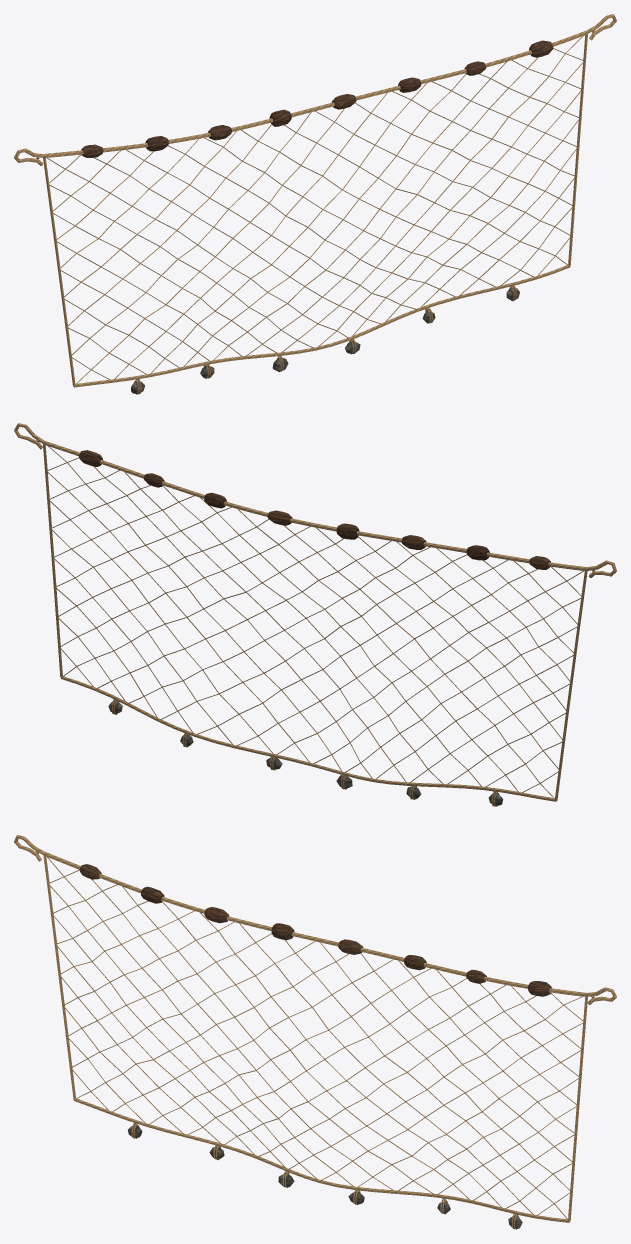
File: Rede-de-Pesca.glb
The picture shows the model from 3 angles, top to bottom: view 1: azimuth 30°, elevation 25°; view 2: azimuth 150°, elevation 25°; view 3: azimuth 330°, elevation 25°; orthographic projection.
Visible parts, largest first — view 1: Malha de pesca, Cordas de contorno, Boias de madeira, Pesos de pedra; view 2: Malha de pesca, Cordas de contorno, Boias de madeira, Pesos de pedra; view 3: Malha de pesca, Cordas de contorno, Boias de madeira, Pesos de pedra.
Boxes of the visible parts, x1,y1,x2,y2 form: Malha de pesca: (47,36,583,383); Cordas de contorno: (14,14,616,394); Boias de madeira: (81,40,553,157); Pesos de pedra: (131,287,519,394); Malha de pesca: (47,446,583,798); Cordas de contorno: (14,423,616,806); Boias de madeira: (79,450,550,569); Pesos de pedra: (108,701,503,805); Malha de pesca: (47,857,583,1219); Cordas de contorno: (14,835,616,1229); Boias de madeira: (79,864,551,996); Pesos de pedra: (127,1125,522,1228).
Size of the model in its own units: 3 by 1.38 by 0.1725.
3 materials, 3 textured.
